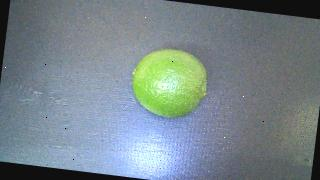EXPORTACION: (127, 45, 211, 121)
